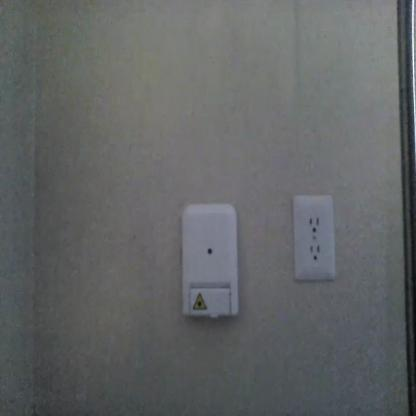OUTLET: (294, 197, 336, 280)
